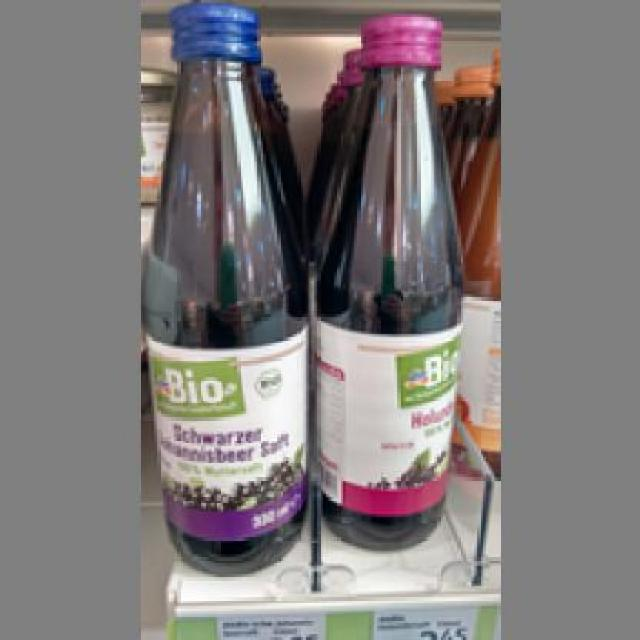Juice: (142, 2, 312, 568), (310, 9, 466, 548)
